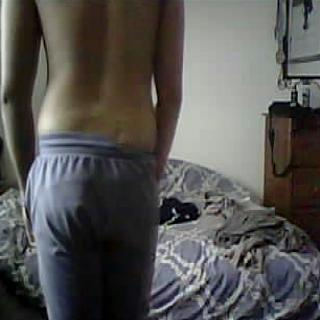Blue Sweatpants: (26, 128, 160, 320)
